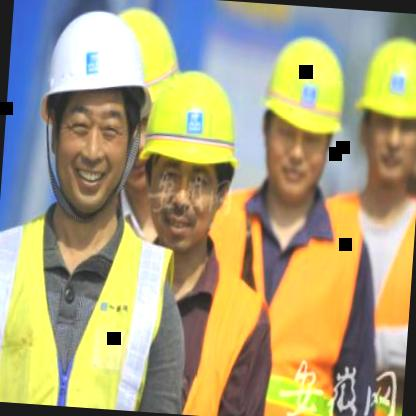helmet: (32, 3, 156, 216), (133, 64, 244, 250), (99, 0, 191, 190), (254, 30, 350, 206), (350, 30, 416, 195)
